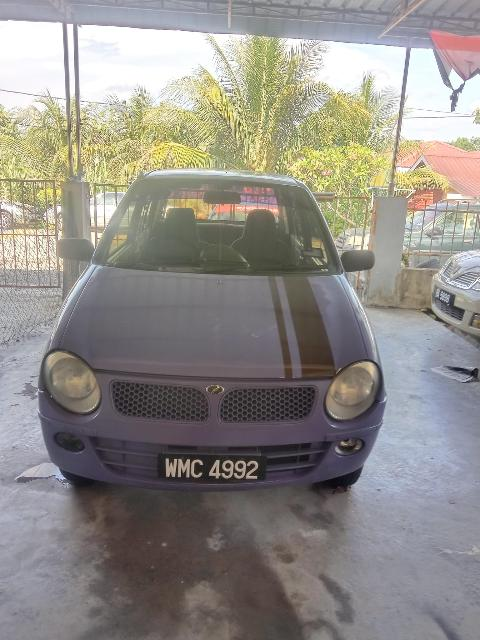License_Plate: (155, 453, 277, 487)
car: (32, 164, 388, 509)
